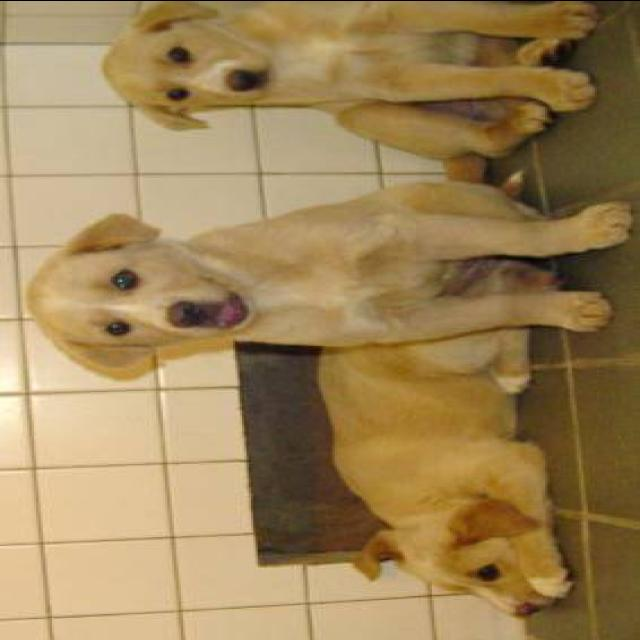dog: (34, 177, 636, 390), (93, 0, 632, 158)
